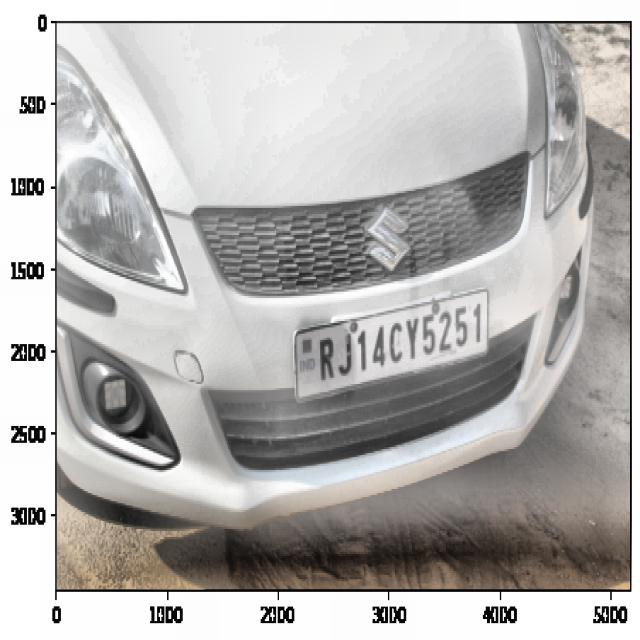license_plate: (311, 298, 487, 384)
